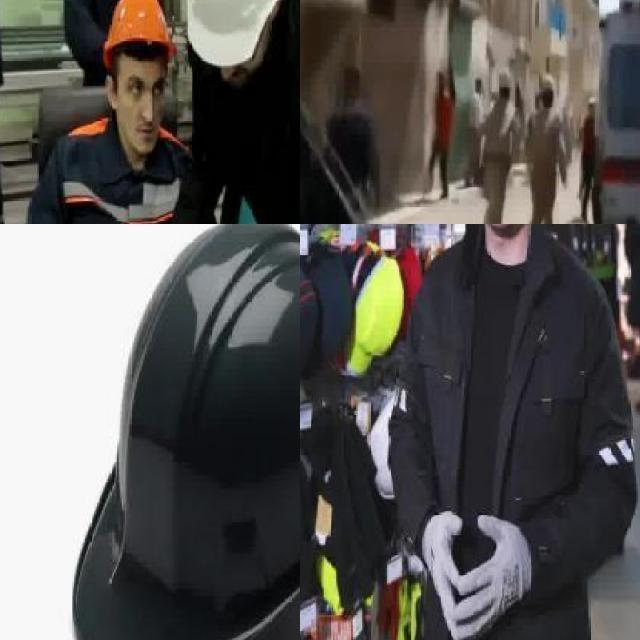apron: (450, 513, 530, 640), (418, 507, 462, 636)
